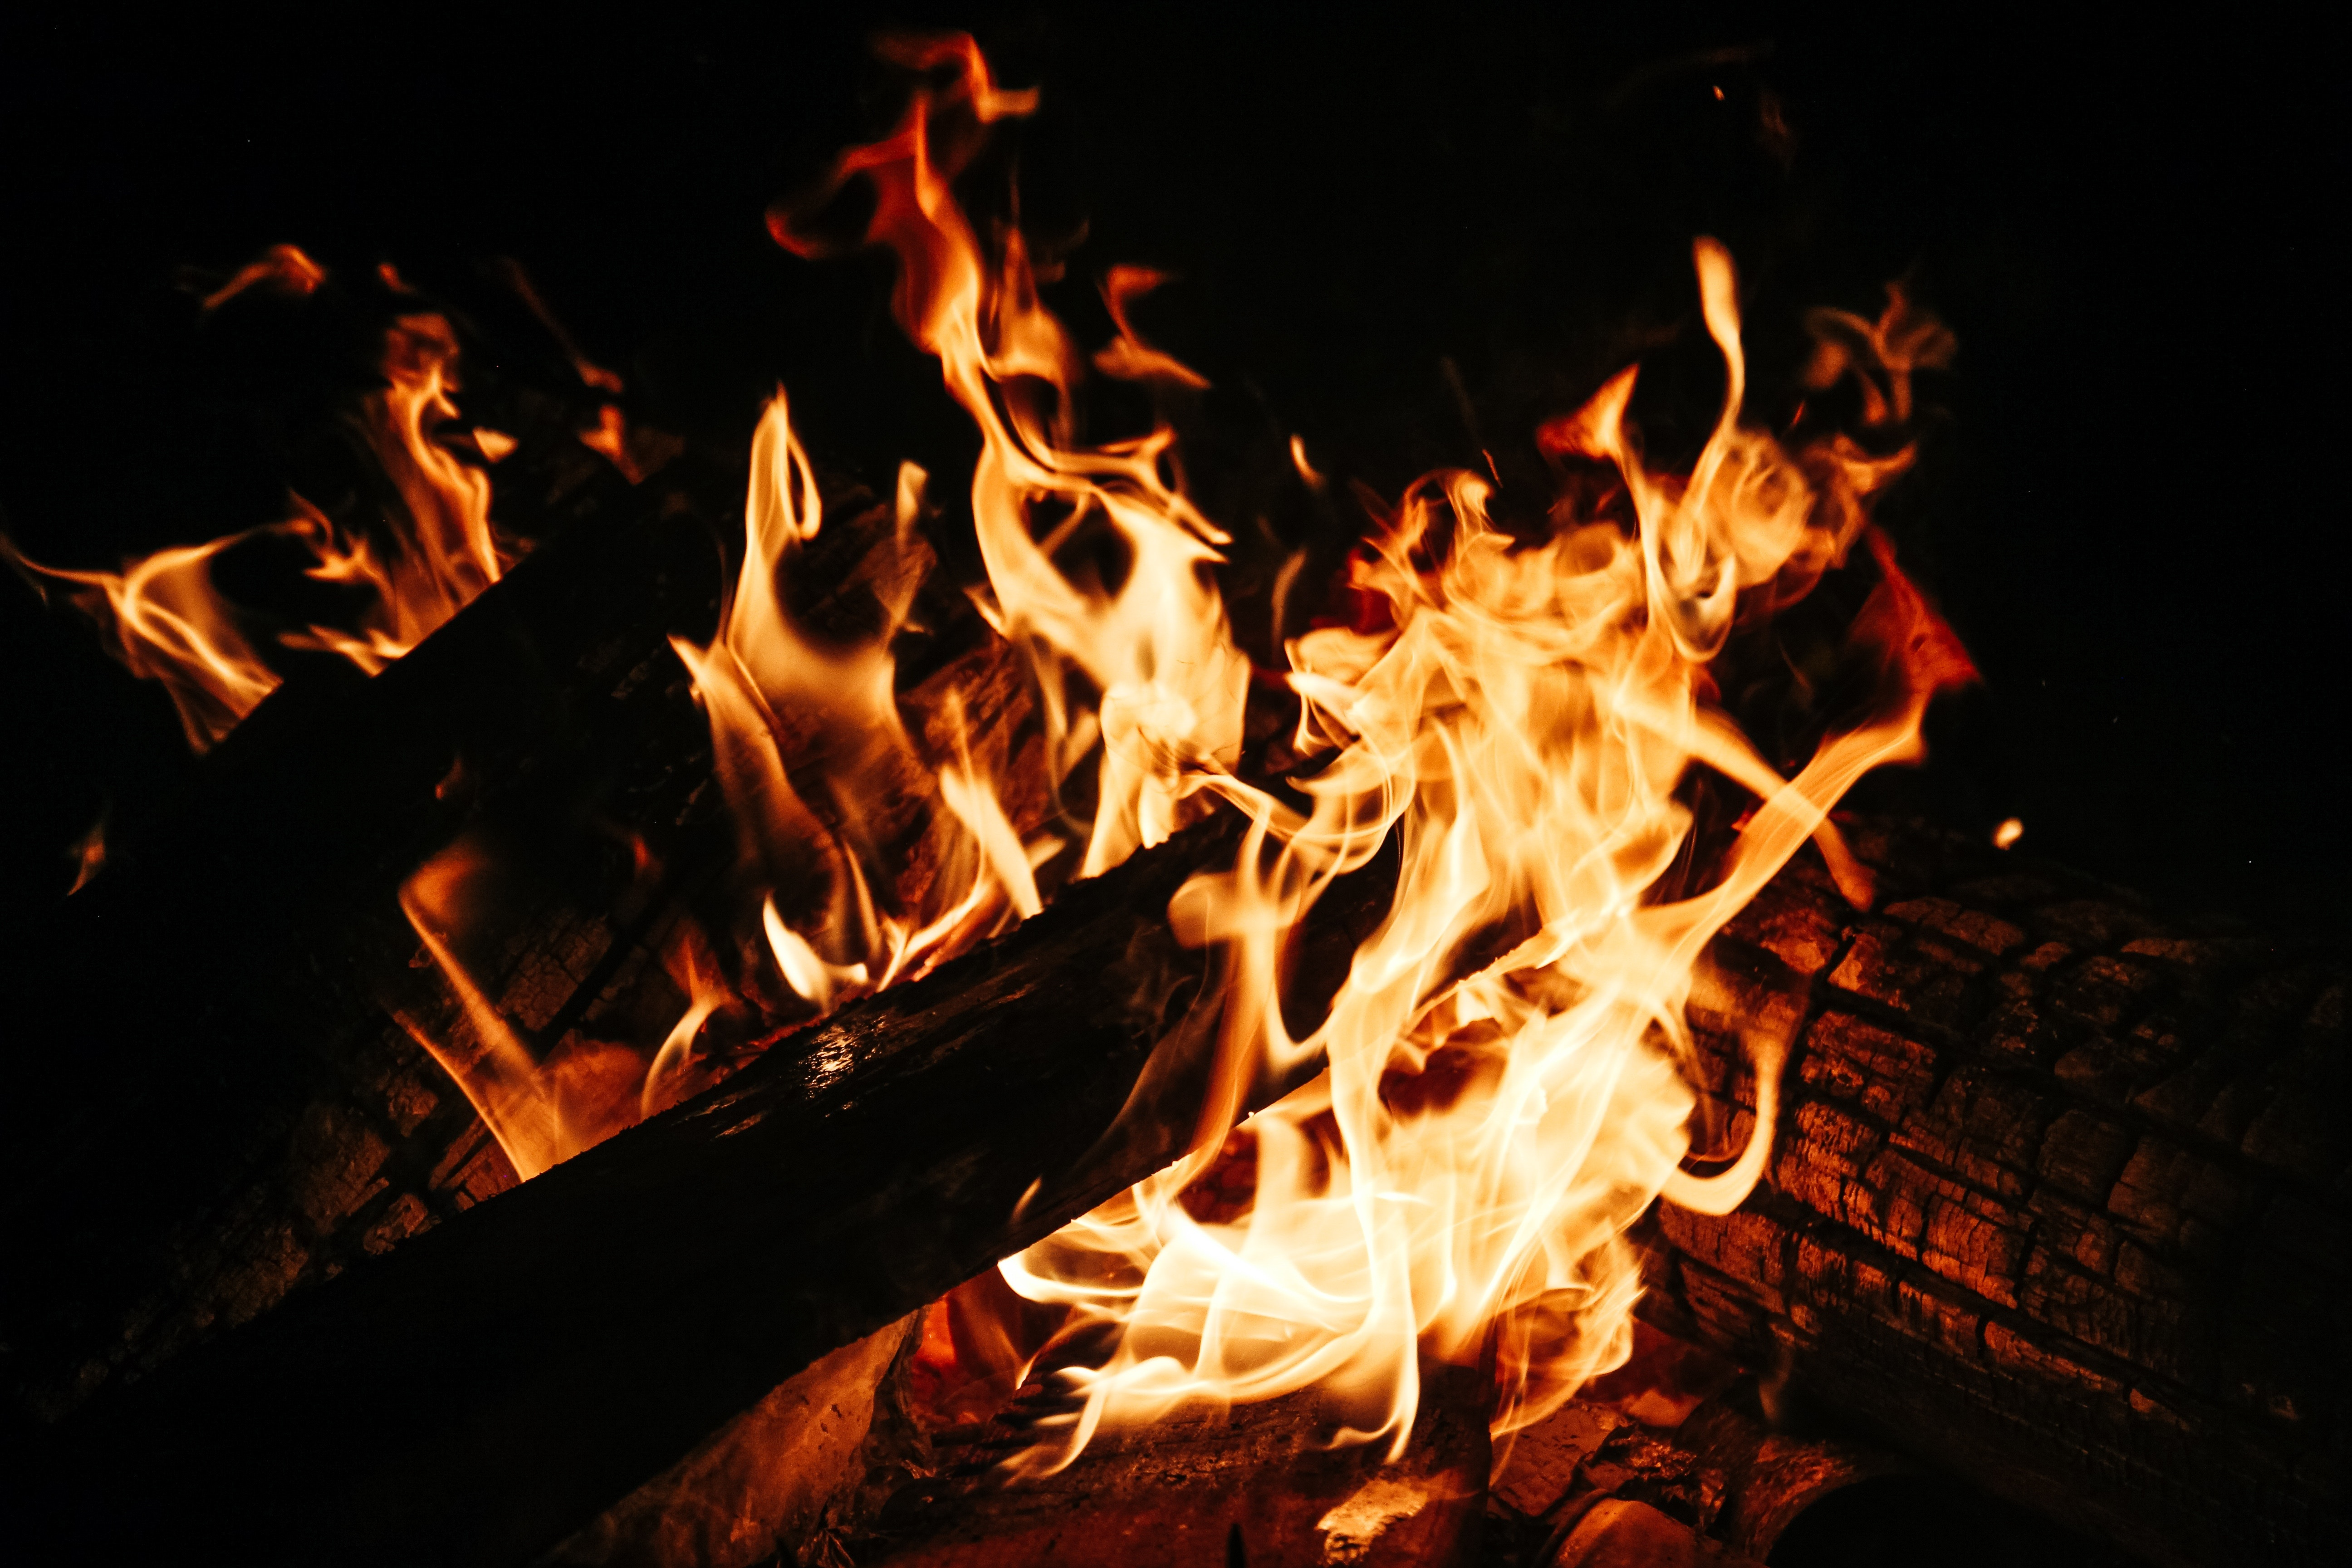fire: (406, 158, 2067, 1512), (9, 250, 523, 728)
